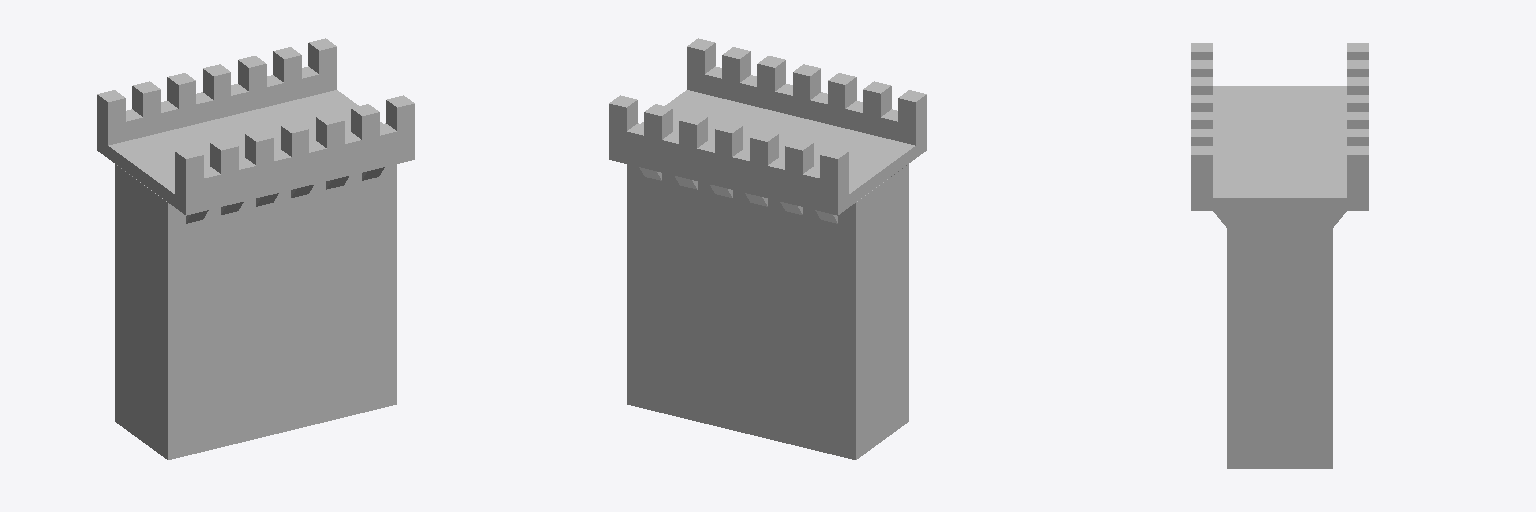
The model's file is Wall.obj.
3 views of the same model, side by side, from view 1: azimuth 30°, elevation 25°; view 2: azimuth 150°, elevation 25°; view 3: azimuth 270°, elevation 25° (orthographic).
Parts seen in each view (by area): view 1: Cube.004_Cube.017, Cube.006_Cube.021, Cube.005_Cube.020; view 2: Cube.004_Cube.017, Cube.006_Cube.021, Cube.005_Cube.020; view 3: Cube.004_Cube.017, Cube.006_Cube.021, Cube.005_Cube.020.
Boxes of the visible parts, x1,y1,x2,y2 form: Cube.004_Cube.017: [115, 168, 396, 459]; Cube.006_Cube.021: [97, 38, 414, 215]; Cube.005_Cube.020: [115, 164, 396, 226]; Cube.004_Cube.017: [627, 168, 908, 459]; Cube.006_Cube.021: [609, 38, 926, 215]; Cube.005_Cube.020: [627, 164, 908, 225]; Cube.004_Cube.017: [1227, 229, 1332, 468]; Cube.006_Cube.021: [1191, 43, 1368, 210]; Cube.005_Cube.020: [1213, 211, 1346, 236].
Size of the model in its own units: 5 by 6.56 by 3.37.